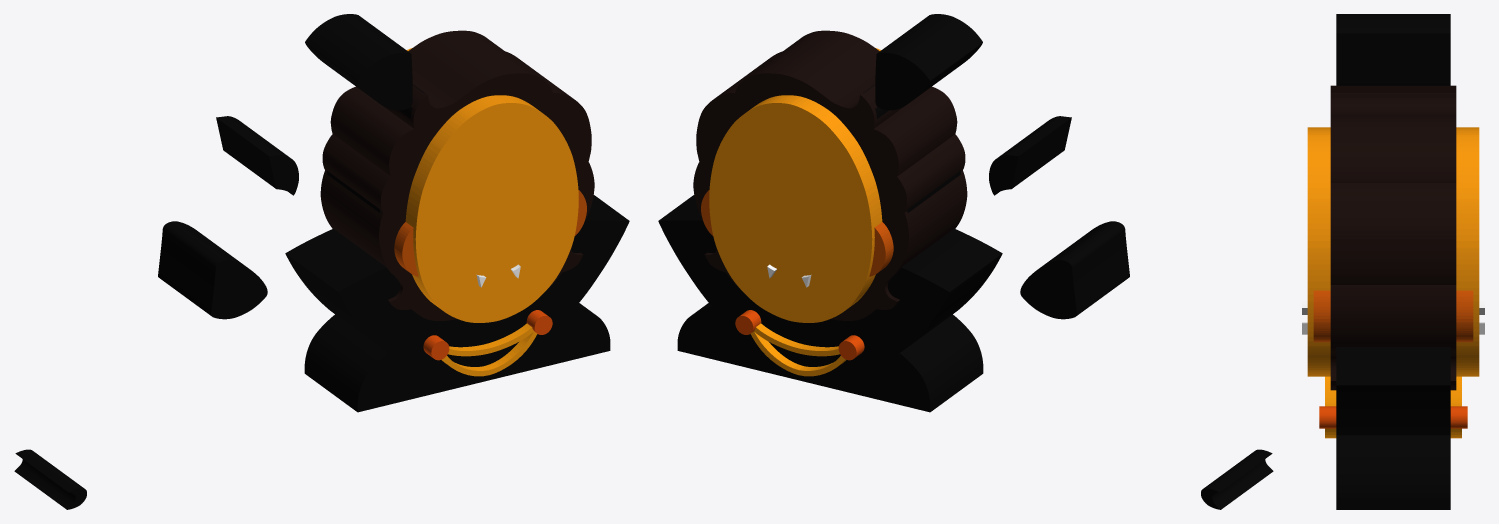
3 views of the same model, side by side, from view 1: azimuth 30°, elevation 25°; view 2: azimuth 150°, elevation 25°; view 3: azimuth 270°, elevation 25° (orthographic). The views are drawn at different scales.
Visible parts, largest first — view 1: U+1F9DB_layer05_obj00, U+1F9DB_layer01_obj00, U+1F9DB_layer00_obj02, U+1F9DB_layer00_obj03, U+1F9DB_layer00_obj07, U+1F9DB_layer01_obj01, U+1F9DB_layer00_obj01, U+1F9DB_layer00_obj00, U+1F9DB_layer00_obj11, U+1F9DB_layer00_obj06, U+1F9DB_layer04_obj00, U+1F9DB_layer02_obj01 (+2 smaller); view 2: U+1F9DB_layer05_obj00, U+1F9DB_layer01_obj00, U+1F9DB_layer00_obj02, U+1F9DB_layer00_obj03, U+1F9DB_layer00_obj00, U+1F9DB_layer00_obj07, U+1F9DB_layer01_obj01, U+1F9DB_layer00_obj01, U+1F9DB_layer00_obj11, U+1F9DB_layer00_obj06, U+1F9DB_layer04_obj00, U+1F9DB_layer02_obj01 (+1 smaller); view 3: U+1F9DB_layer01_obj00, U+1F9DB_layer05_obj00, U+1F9DB_layer00_obj02, U+1F9DB_layer01_obj01, U+1F9DB_layer00_obj01, U+1F9DB_layer00_obj03, U+1F9DB_layer00_obj00, U+1F9DB_layer04_obj00, U+1F9DB_layer03_obj01, U+1F9DB_layer02_obj00, U+1F9DB_layer02_obj01.
Part boxes in pixels (bbox=[...]): U+1F9DB_layer05_obj00: bbox=[405, 48, 578, 322]; U+1F9DB_layer01_obj00: bbox=[322, 30, 591, 224]; U+1F9DB_layer00_obj02: bbox=[304, 303, 610, 412]; U+1F9DB_layer00_obj03: bbox=[285, 221, 629, 375]; U+1F9DB_layer00_obj07: bbox=[158, 221, 267, 319]; U+1F9DB_layer01_obj01: bbox=[320, 158, 594, 320]; U+1F9DB_layer00_obj01: bbox=[305, 14, 412, 110]; U+1F9DB_layer00_obj00: bbox=[338, 195, 629, 352]; U+1F9DB_layer00_obj11: bbox=[216, 116, 298, 195]; U+1F9DB_layer00_obj06: bbox=[14, 449, 86, 509]; U+1F9DB_layer04_obj00: bbox=[394, 190, 586, 276]; U+1F9DB_layer02_obj01: bbox=[441, 331, 537, 376]; U+1F9DB_layer05_obj00: bbox=[709, 48, 882, 322]; U+1F9DB_layer01_obj00: bbox=[696, 30, 965, 221]; U+1F9DB_layer00_obj02: bbox=[677, 303, 983, 412]; U+1F9DB_layer00_obj03: bbox=[659, 221, 1002, 375]; U+1F9DB_layer00_obj00: bbox=[658, 195, 949, 355]; U+1F9DB_layer00_obj07: bbox=[1020, 221, 1129, 319]; U+1F9DB_layer01_obj01: bbox=[693, 158, 967, 320]; U+1F9DB_layer00_obj01: bbox=[875, 14, 982, 110]; U+1F9DB_layer00_obj11: bbox=[989, 116, 1071, 195]; U+1F9DB_layer00_obj06: bbox=[1201, 449, 1273, 509]; U+1F9DB_layer04_obj00: bbox=[701, 190, 893, 276]; U+1F9DB_layer02_obj01: bbox=[750, 331, 846, 376]; U+1F9DB_layer01_obj00: bbox=[1330, 85, 1456, 284]; U+1F9DB_layer05_obj00: bbox=[1307, 127, 1479, 376]; U+1F9DB_layer00_obj02: bbox=[1336, 435, 1450, 509]; U+1F9DB_layer01_obj01: bbox=[1330, 285, 1456, 390]; U+1F9DB_layer00_obj01: bbox=[1336, 14, 1450, 85]; U+1F9DB_layer00_obj03: bbox=[1336, 385, 1450, 435]; U+1F9DB_layer00_obj00: bbox=[1336, 347, 1450, 385]; U+1F9DB_layer04_obj00: bbox=[1313, 290, 1473, 342]; U+1F9DB_layer03_obj01: bbox=[1319, 406, 1467, 428]; U+1F9DB_layer02_obj00: bbox=[1325, 376, 1461, 406]; U+1F9DB_layer02_obj01: bbox=[1325, 428, 1461, 438].
Bounding box in the file's own units: 0.6127 × 0.3919 × 0.16.
